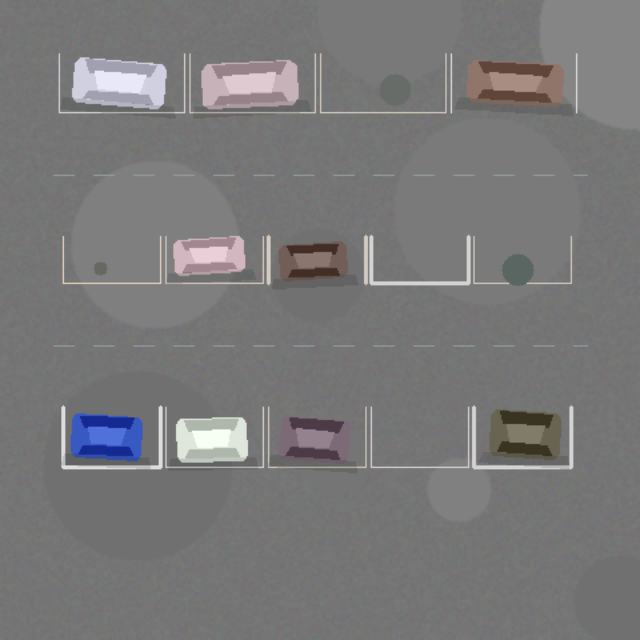space-empty: (320, 53, 445, 112), (371, 407, 468, 467), (473, 236, 571, 283), (63, 236, 160, 283), (371, 236, 468, 283)
space-occupied: (189, 53, 315, 112), (59, 53, 184, 112), (451, 53, 576, 112), (165, 407, 263, 467), (473, 407, 571, 467), (63, 407, 160, 467), (268, 407, 365, 467), (165, 236, 263, 283), (268, 236, 365, 283)
